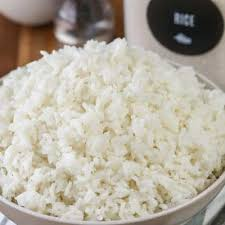rice: (1, 43, 221, 224)
